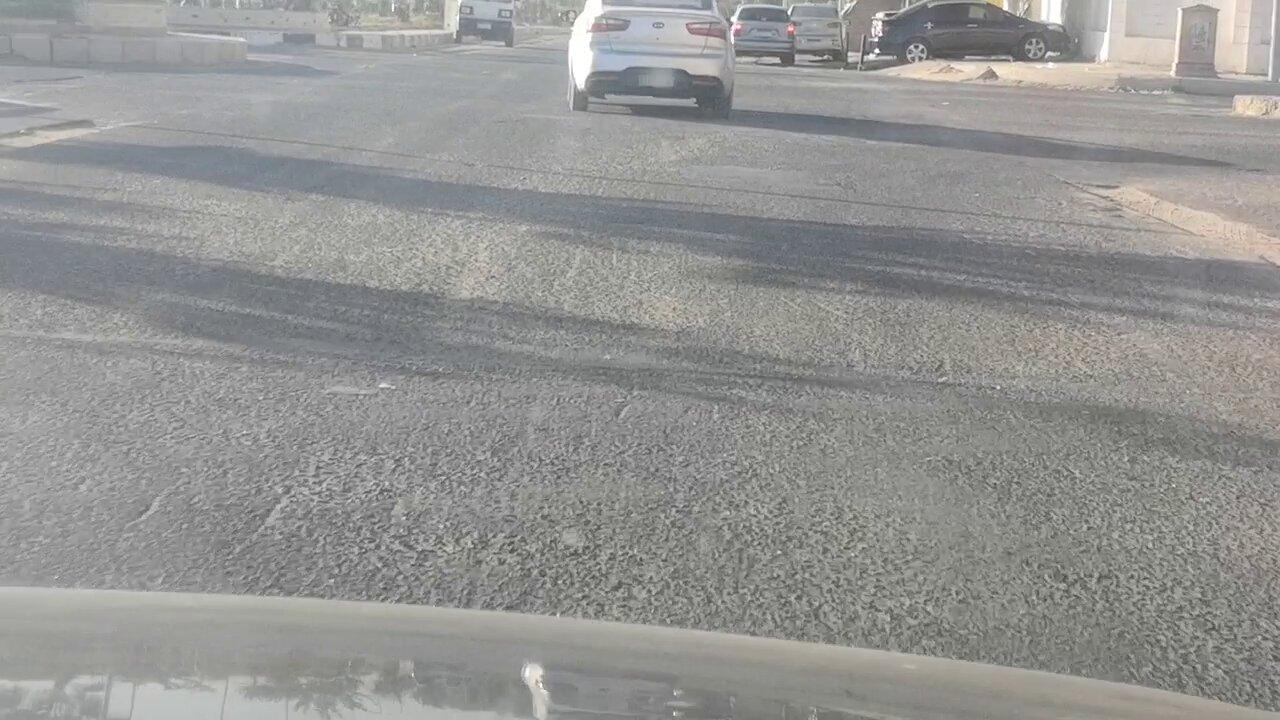Bump: (0, 333, 1279, 718)
Pothole: (0, 123, 105, 161)
